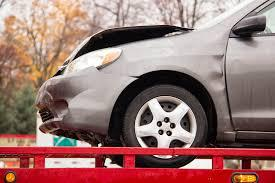fender-dent: (112, 37, 227, 95)
front-bumper-dent: (40, 77, 106, 130)
